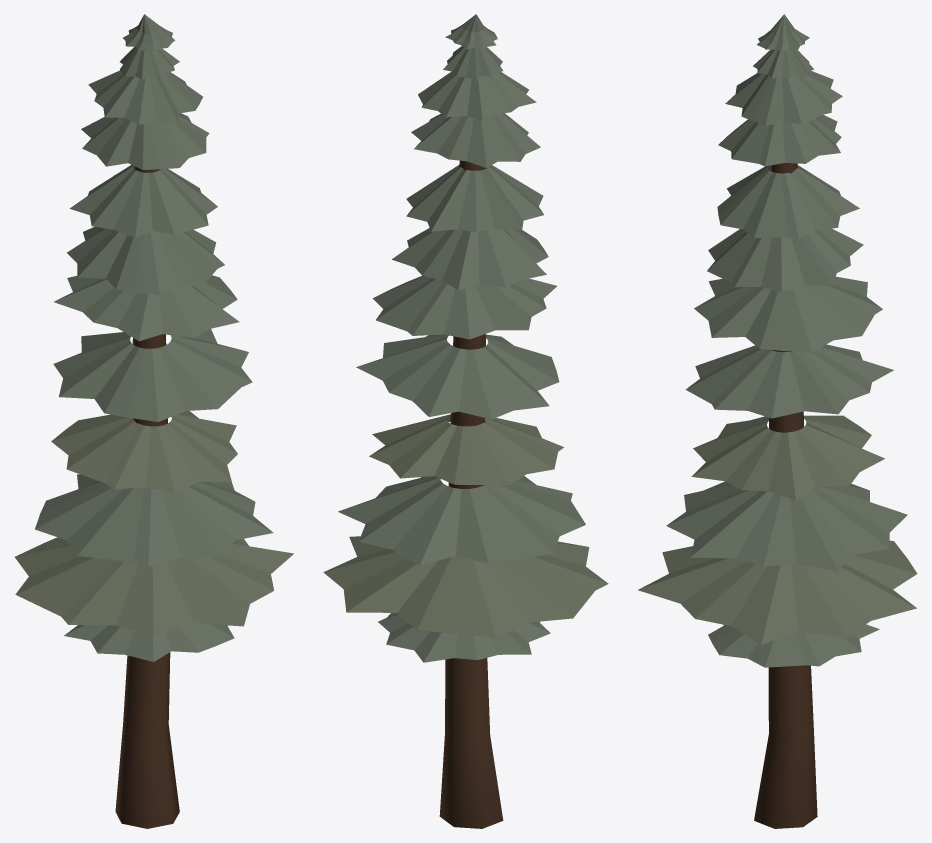
The model's file is MESH_SmallTree_01.fbx.
The picture shows the model from 3 angles, left to right: view 1: azimuth 30°, elevation 25°; view 2: azimuth 150°, elevation 25°; view 3: azimuth 270°, elevation 25°; orthographic projection.
Parts seen in each view (by area): view 1: SmallTree; view 2: SmallTree; view 3: SmallTree.
Part boxes in pixels (x1,y1,x2,y2): SmallTree: (15, 14, 293, 828); SmallTree: (323, 14, 608, 828); SmallTree: (638, 14, 917, 828).
Bounding box in the file's own units: 82.25 × 251 × 79.52.
